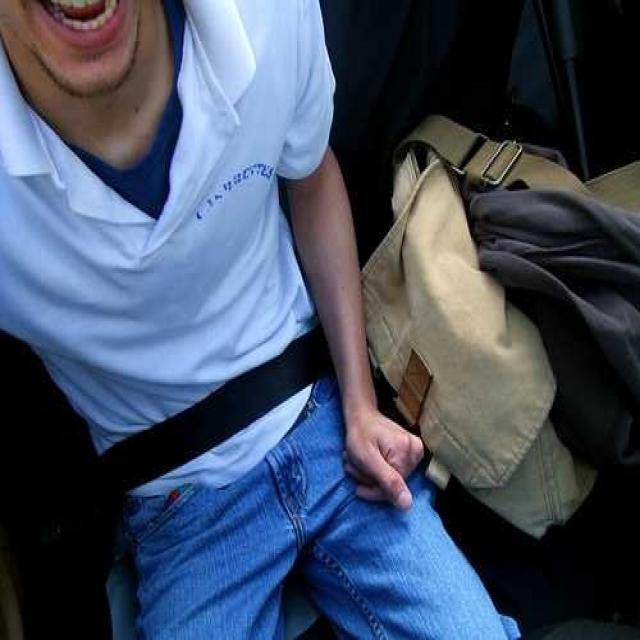seatbelt: (81, 278, 402, 494)
